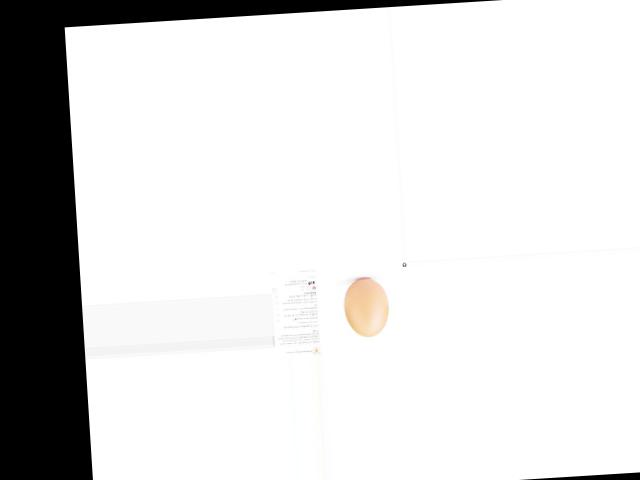egg: (342, 277, 390, 337)
